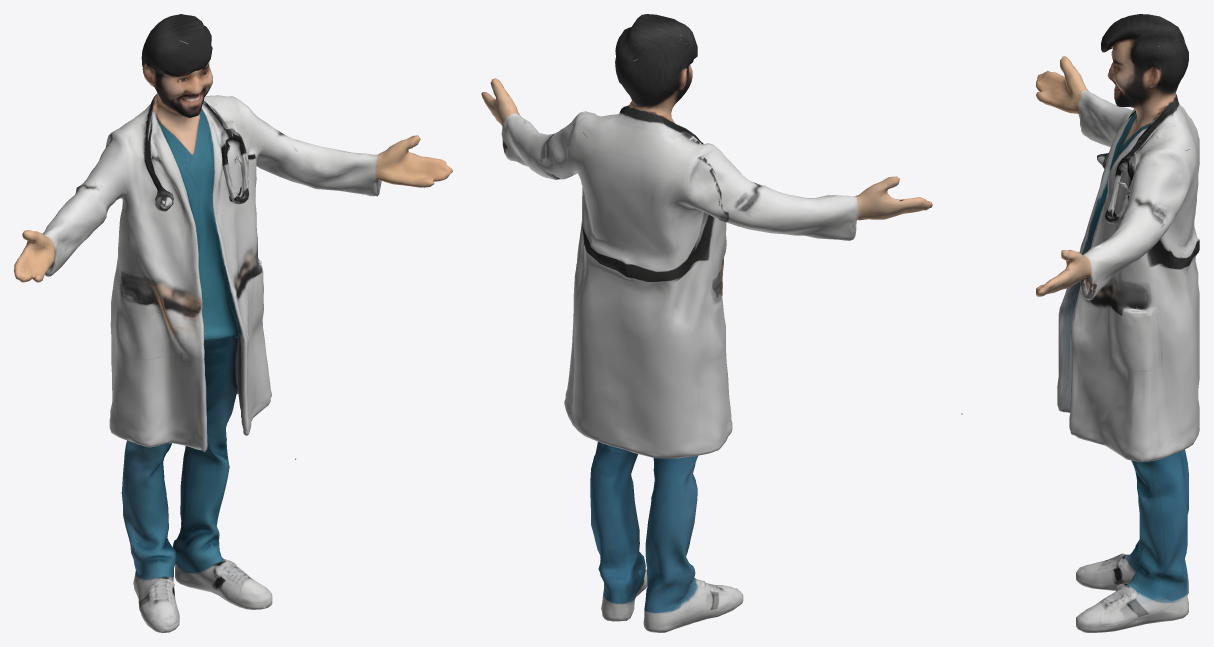
File: Meshy_AI_doctor_0213174622_texture.fbx
3 views of the same model, side by side, from view 1: azimuth 30°, elevation 25°; view 2: azimuth 150°, elevation 25°; view 3: azimuth 270°, elevation 25° (orthographic). The views are drawn at different scales.
Parts seen in each view (by area): view 1: Mesh_0; view 2: Mesh_0; view 3: Mesh_0.
Part boxes in pixels (x1=…): Mesh_0: x1=14, y1=14, x2=452, y2=632; Mesh_0: x1=481, y1=14, x2=932, y2=632; Mesh_0: x1=961, y1=14, x2=1199, y2=632.
Size of the model in its own units: 158 by 200 by 73.51.
Materials: 1 (1 with a texture image).
